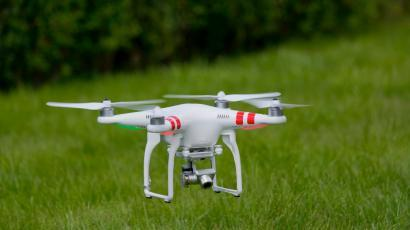drone: (63, 80, 330, 176)
